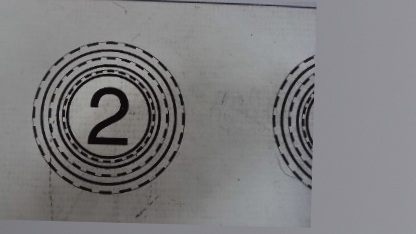2r: (28, 37, 187, 196)
